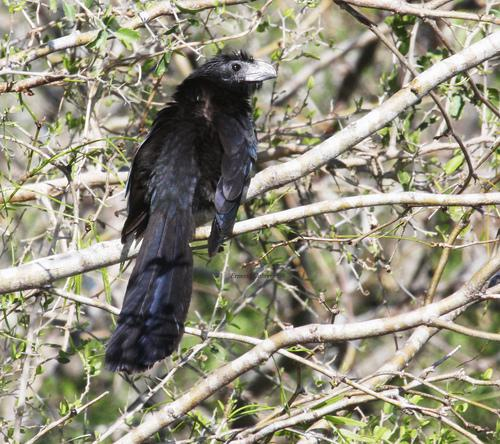004.Groove_billed_Ani: (100, 48, 279, 377)
